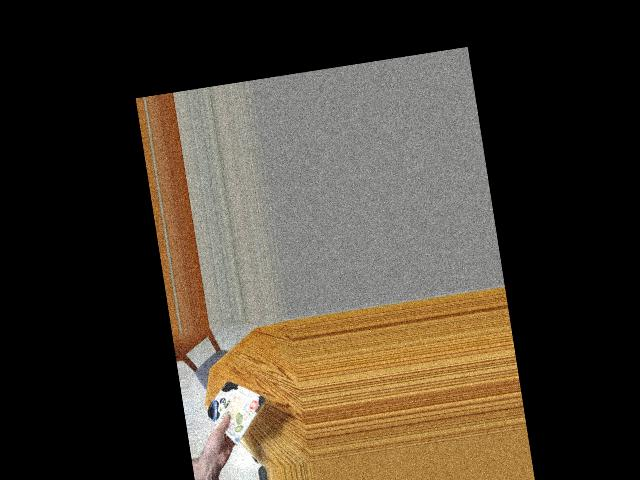cheese: (211, 379, 262, 441)
